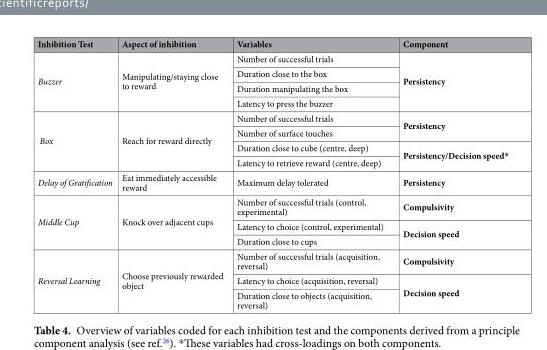table: (36, 37, 507, 310)
table column: (229, 37, 392, 310), (392, 37, 507, 310), (116, 37, 229, 310), (36, 37, 116, 310)
table column header: (36, 37, 507, 50)
table row: (36, 169, 507, 194), (36, 194, 507, 218), (36, 248, 507, 272), (36, 287, 507, 310), (36, 50, 507, 65), (36, 65, 507, 80), (36, 80, 507, 95), (36, 95, 507, 110), (36, 110, 507, 125), (36, 125, 507, 140), (36, 154, 507, 169), (36, 218, 507, 233), (36, 233, 507, 248), (36, 272, 507, 287), (36, 140, 507, 154), (36, 37, 507, 50)
table spanning cell: (116, 248, 229, 310), (392, 50, 507, 110), (116, 50, 229, 110), (116, 110, 229, 169), (116, 194, 229, 248), (36, 248, 116, 310), (36, 50, 116, 110), (36, 110, 116, 169), (392, 272, 507, 310), (36, 194, 116, 248), (392, 110, 507, 140), (392, 218, 507, 248), (392, 140, 507, 169)
